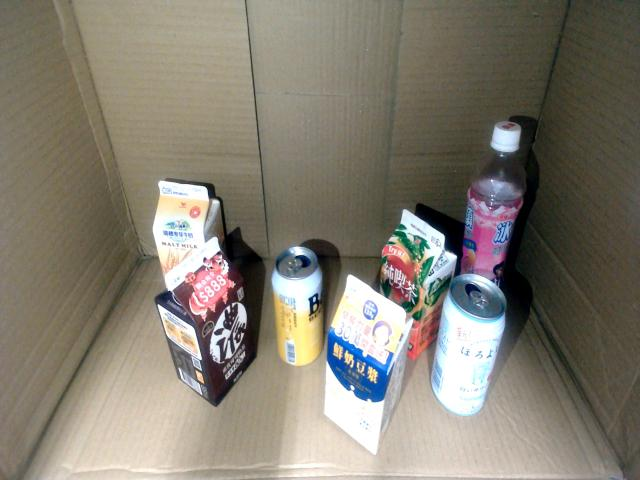Canned_drinks: (429, 272, 506, 416), (272, 245, 324, 367)
bottle: (459, 119, 526, 293)
